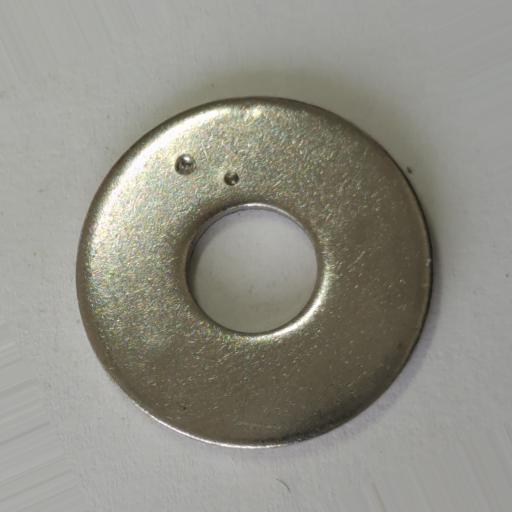circular_cavity: (175, 153, 197, 174), (224, 171, 240, 186)
